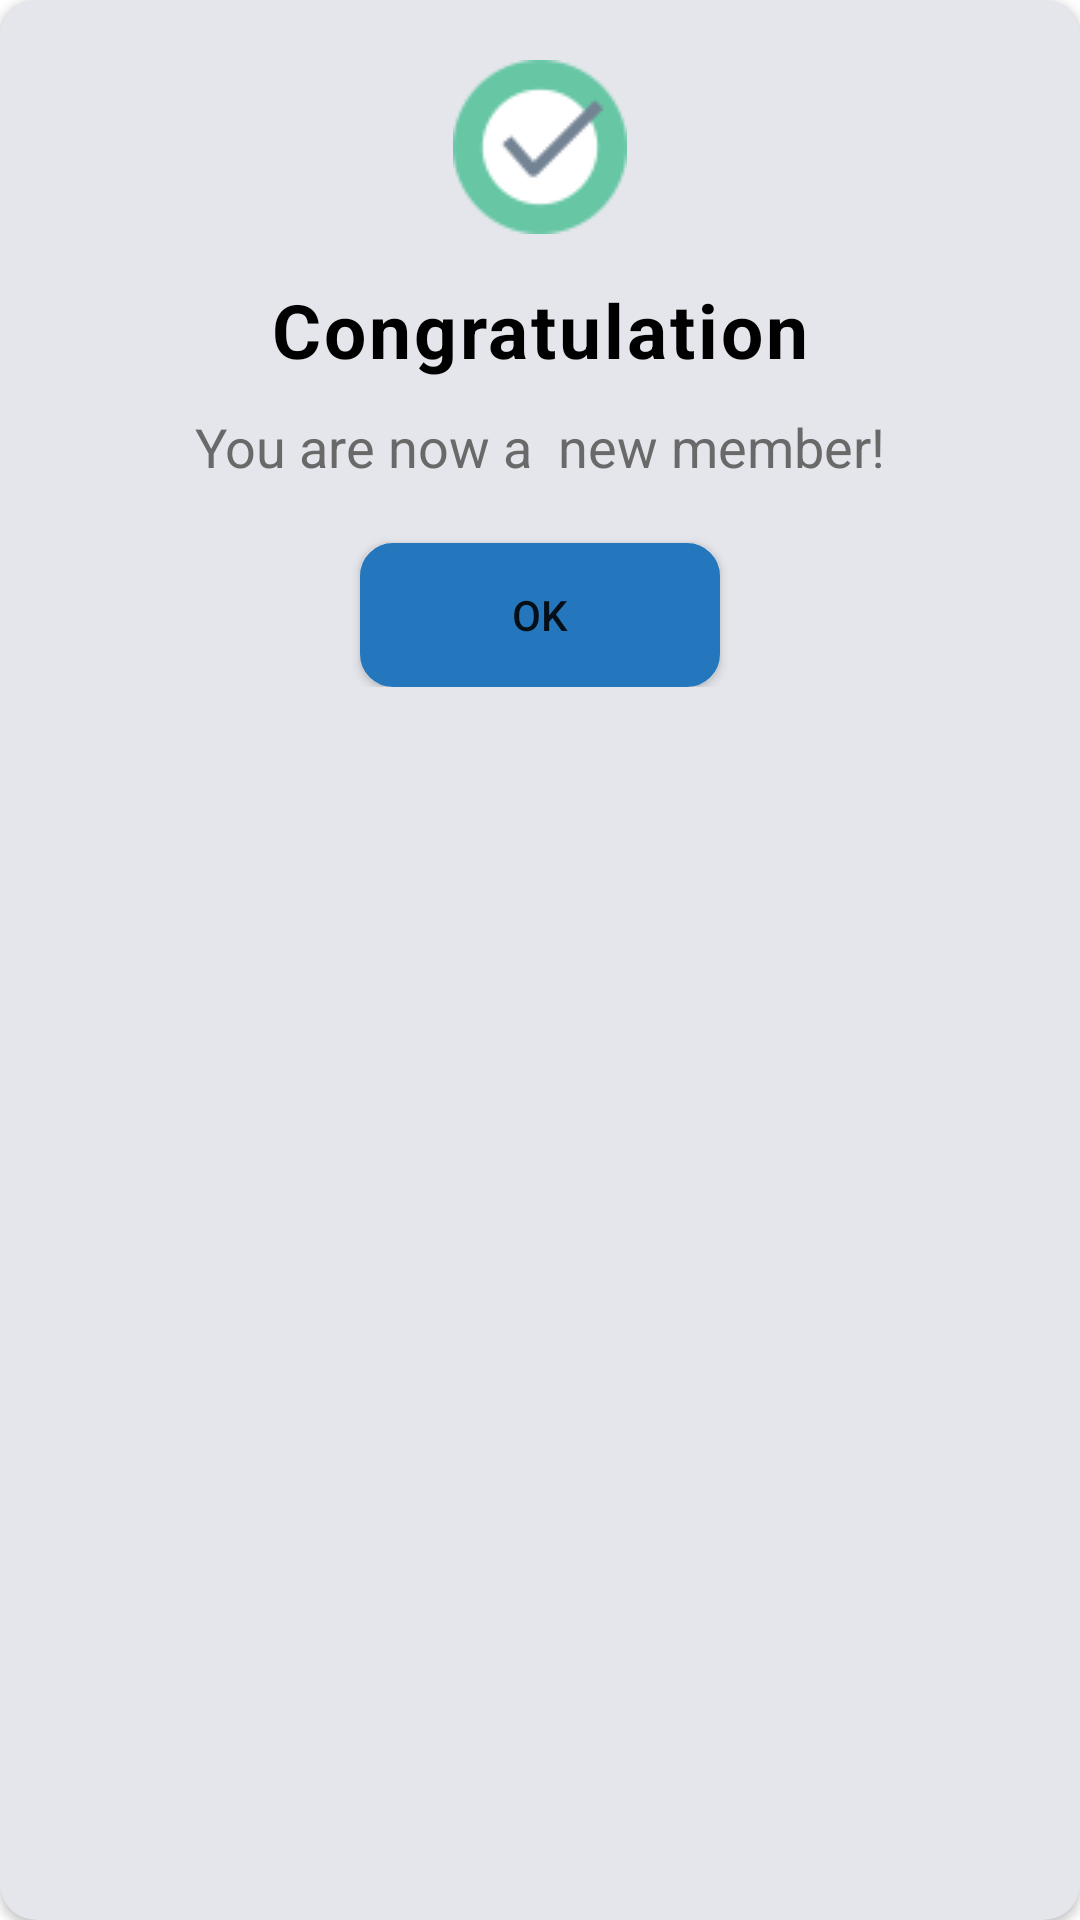

Screen size 1080x1920. Icon name, then its box in pixels as (x1, y1, x2, y2):
correct: (453, 60, 627, 234)
